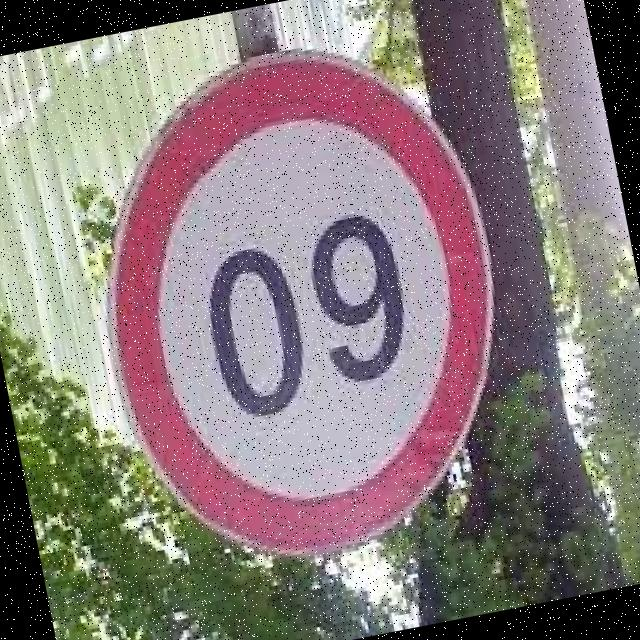speed_limit_60: (63, 18, 546, 591)
